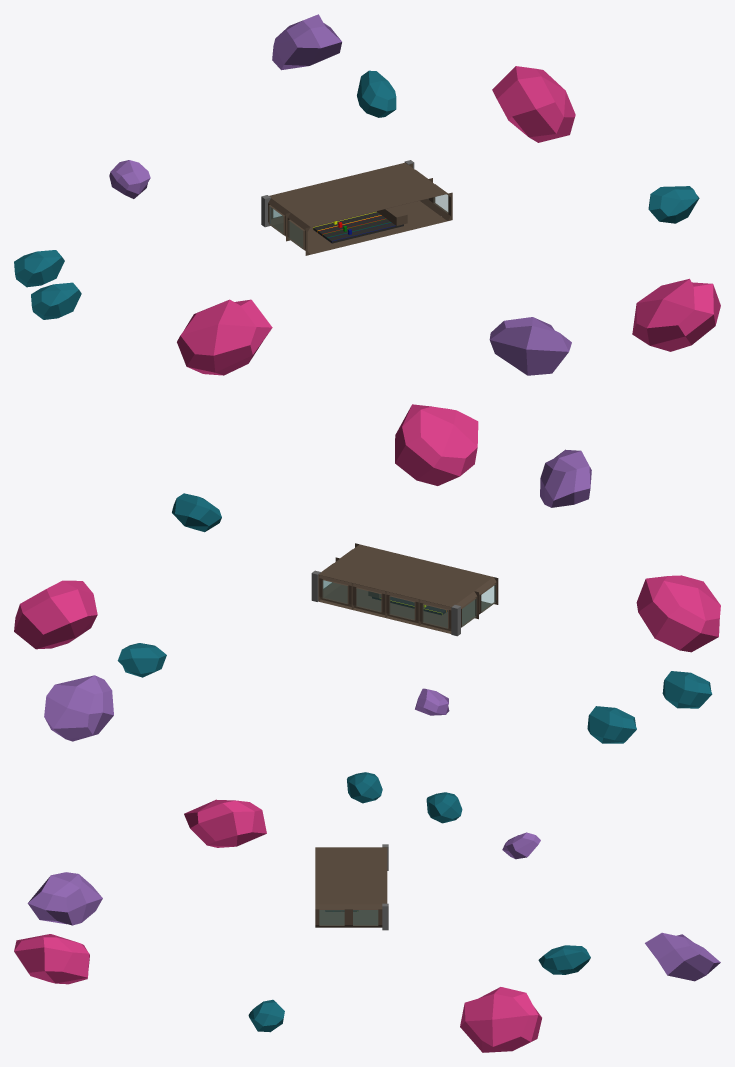
File: Laser_Dodge_Environment.FBX
3 views of the same model, one above another, from view 1: azimuth 30°, elevation 25°; view 2: azimuth 150°, elevation 25°; view 3: azimuth 270°, elevation 25° (orthographic). The views are drawn at different scales.
Visible parts, largest first — view 1: Ceiling, Ast_Rock_007, Ast_Rock_005, Ast_Rock_2, Ast_Rock_009, Ast_Rock_3, Floor, Ast_Rock_1, Ast_Rock_004, Ast_Rock_008, Ast_Rock_010, Ast_Rock_006; view 2: Ceiling, Ast_Rock_005, Ast_Rock_007, Ast_Rock_2, Ast_Rock_3, Ast_Rock_009, Floor, Ast_Rock_008, Ast_Rock_010, Ast_Rock_1, Ast_Rock_004, Ast_Rock_006; view 3: Ceiling, Ast_Rock_2, Ast_Rock_007, Ast_Rock_005, Ast_Rock_009, Ast_Rock_3, Ast_Rock_004, Ast_Rock_010, Ast_Rock_008, Ast_Rock_1, Floor, Ast_Rock_006 (+2 smaller).
Boxes of the visible parts, x1,y1,x2,y2 form: Ceiling: (269,162,447,226); Ast_Rock_007: (177,299,272,375); Ast_Rock_005: (632,278,720,351); Ast_Rock_2: (492,66,575,142); Ast_Rock_009: (489,317,571,375); Ast_Rock_3: (272,14,341,70); Floor: (273,201,447,254); Ast_Rock_1: (648,186,699,223); Ast_Rock_004: (357,70,396,117); Ast_Rock_008: (31,282,81,319); Ast_Rock_010: (14,250,64,287); Ast_Rock_006: (109,160,150,198); Ceiling: (318,544,492,607); Ast_Rock_005: (395,404,478,485); Ast_Rock_007: (636,575,720,652); Ast_Rock_2: (14,580,97,649); Ast_Rock_3: (44,675,113,741); Ast_Rock_009: (540,449,591,507); Floor: (319,585,491,633); Ast_Rock_008: (662,671,712,708); Ast_Rock_010: (587,706,636,743); Ast_Rock_1: (172,493,221,532); Ast_Rock_004: (117,643,166,677); Ast_Rock_006: (415,688,449,715); Ceiling: (315,847,387,904); Ast_Rock_2: (460,987,541,1052); Ast_Rock_007: (184,799,266,847); Ast_Rock_005: (14,934,89,984); Ast_Rock_009: (27,872,102,925); Ast_Rock_3: (645,932,720,981); Ast_Rock_004: (538,945,590,974); Ast_Rock_010: (426,792,462,823); Ast_Rock_008: (347,772,382,803); Ast_Rock_1: (248,999,284,1032); Floor: (319,910,378,924); Ast_Rock_006: (502,832,540,859).
Size of the model in its own units: 2992 by 363 by 3474.
